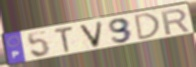5: (25, 29, 53, 58)
9: (107, 17, 135, 45)
D: (134, 12, 162, 42)
R: (160, 8, 192, 37)
T: (53, 25, 76, 55)
V: (77, 20, 105, 49)
